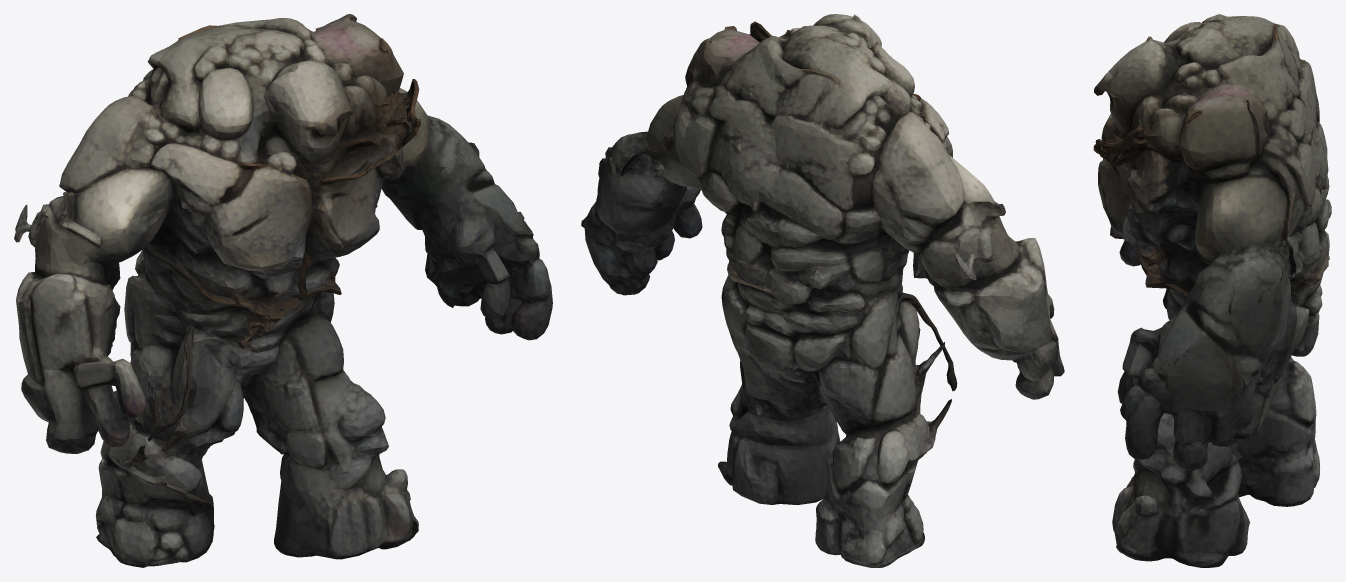
File: RockGolem.glb
3 renders of one model, left to right at view 1: azimuth 30°, elevation 25°; view 2: azimuth 150°, elevation 25°; view 3: azimuth 270°, elevation 25°, orthographic. The views are drawn at different scales.
Parts seen in each view (by area): view 1: world; view 2: world; view 3: world.
Part boxes in pixels (left/top/right/bottom): world: left=14, top=14, right=552, bottom=567; world: left=581, top=14, right=1064, bottom=567; world: left=1093, top=14, right=1331, bottom=567.
Bounding box in the file's own units: 0.9929 × 0.992 × 0.4349.
Materials: 1 (1 with a texture image).
